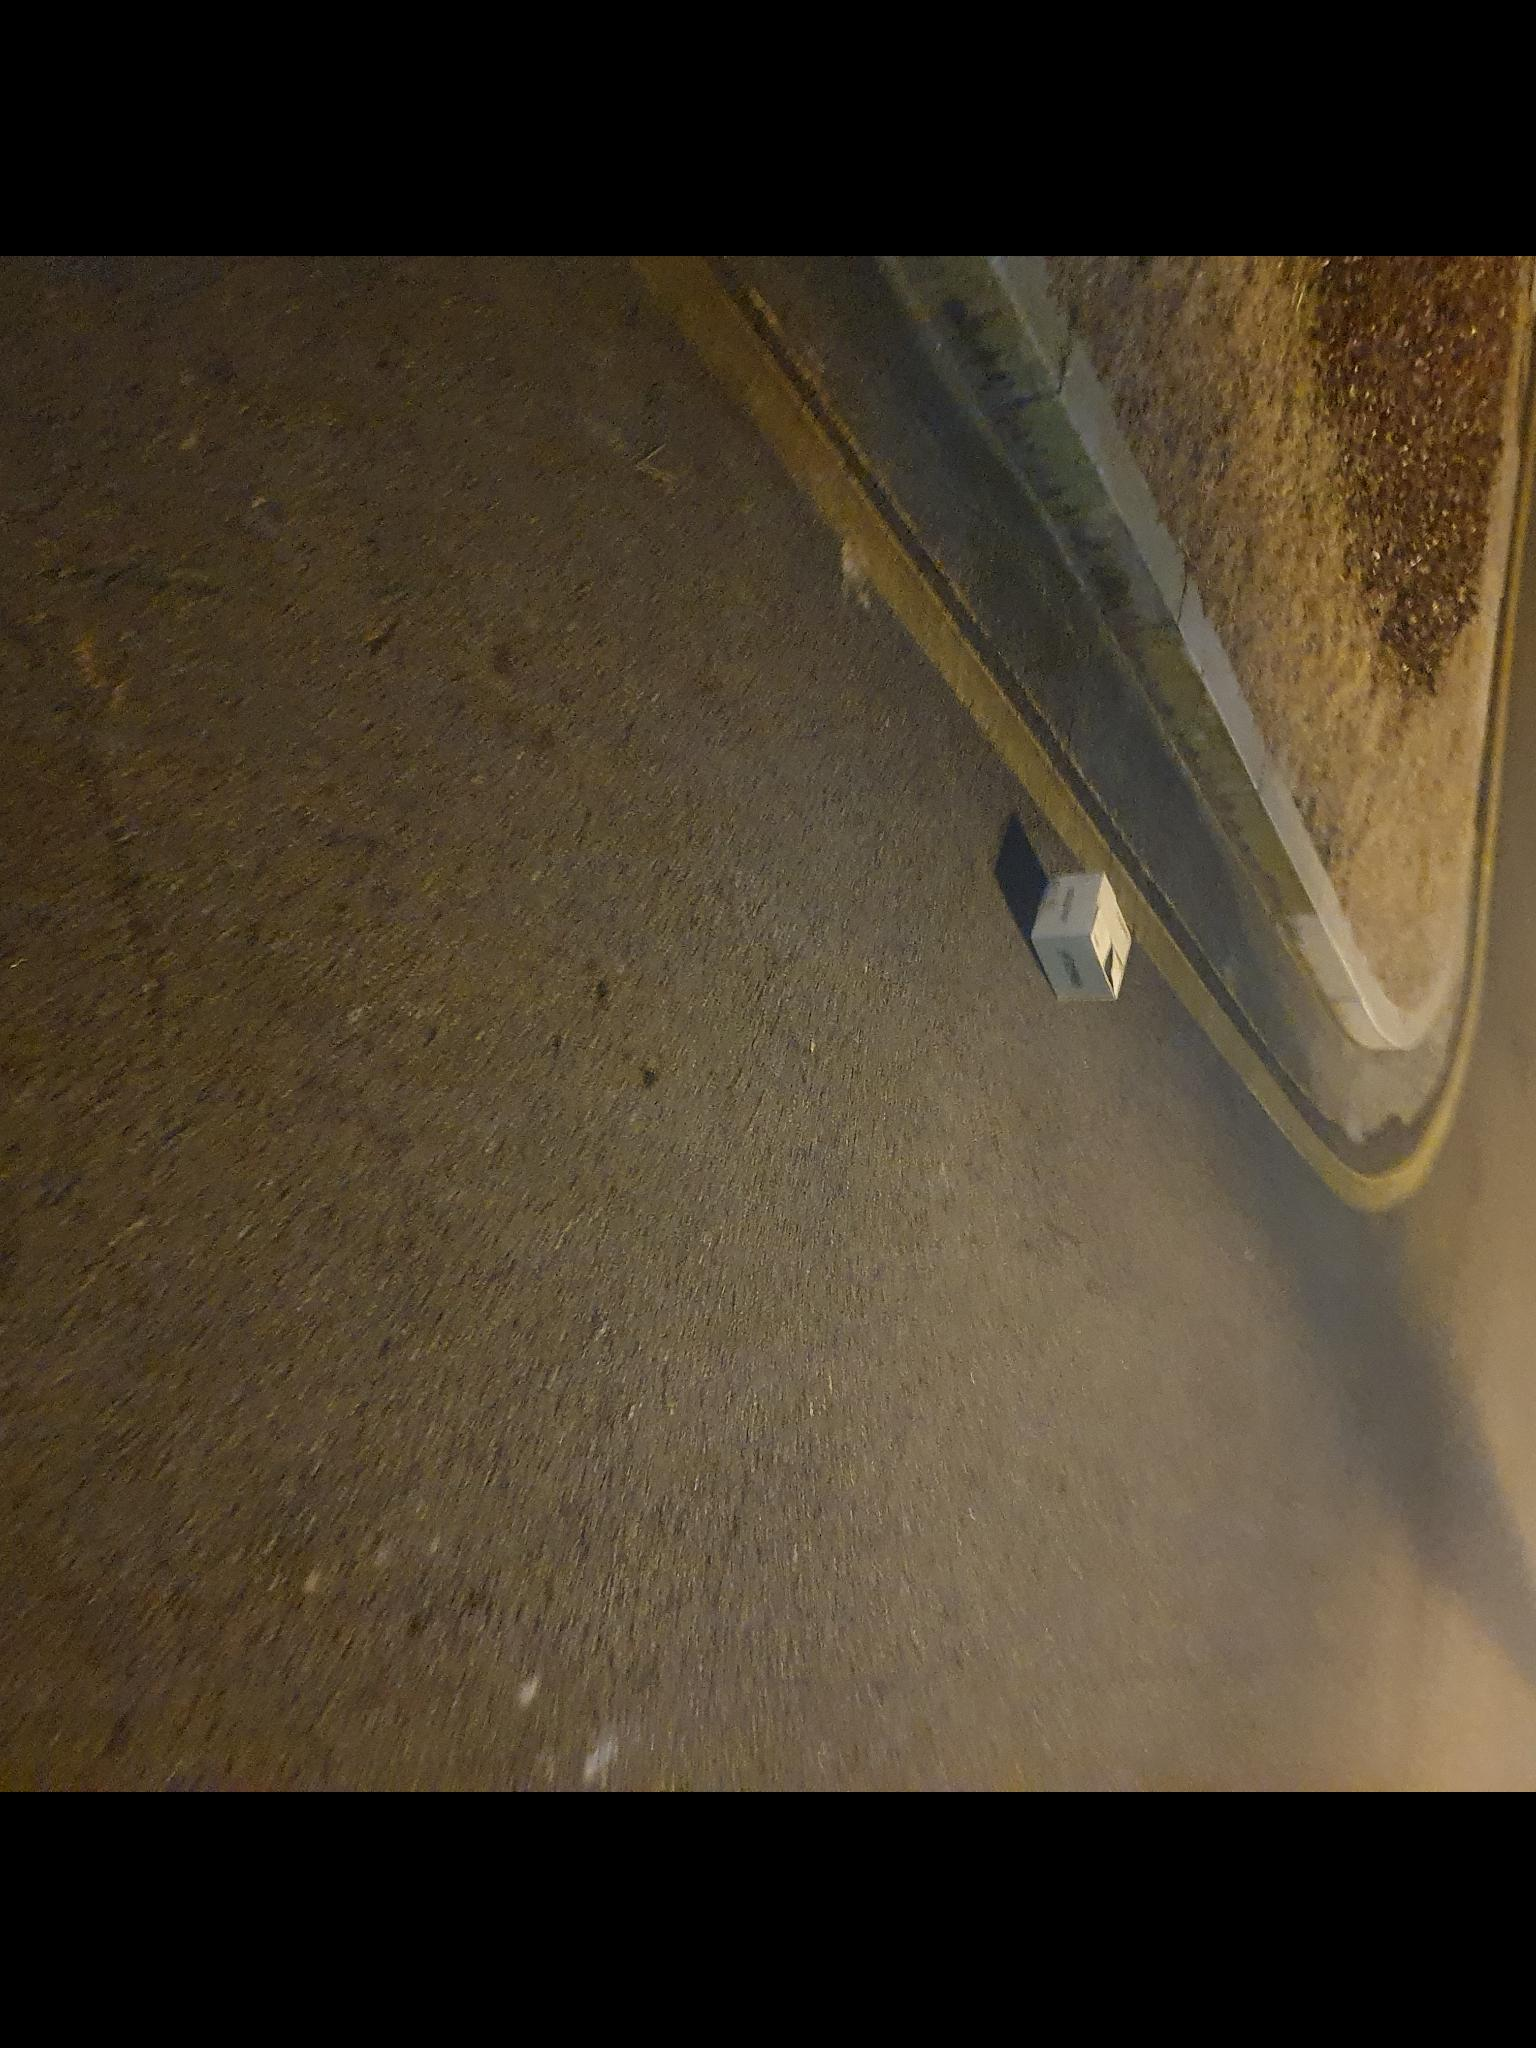Box: (1033, 874, 1139, 1016)
